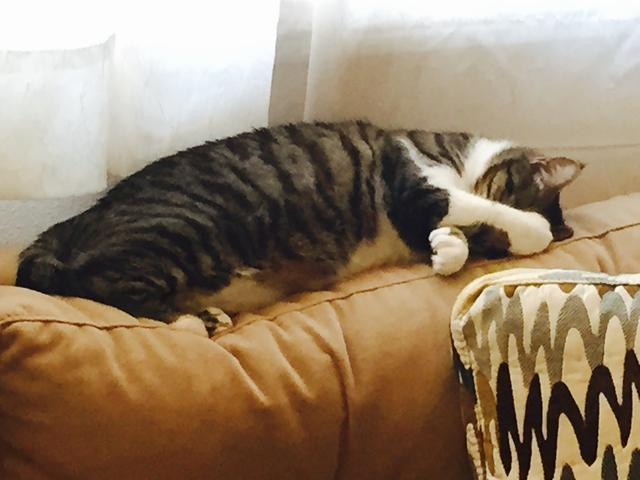playdoh: (13, 122, 586, 329)
